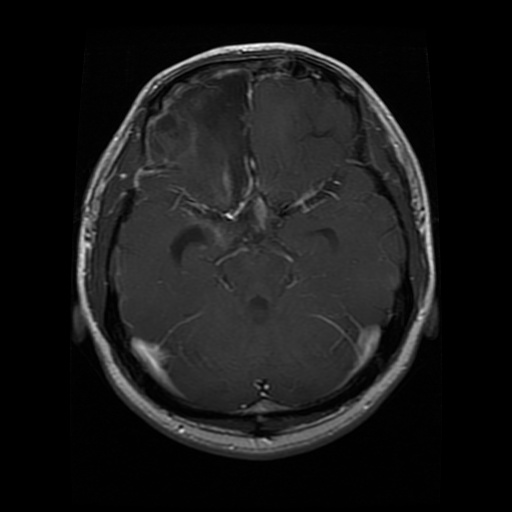glioma: (145, 72, 251, 210)
